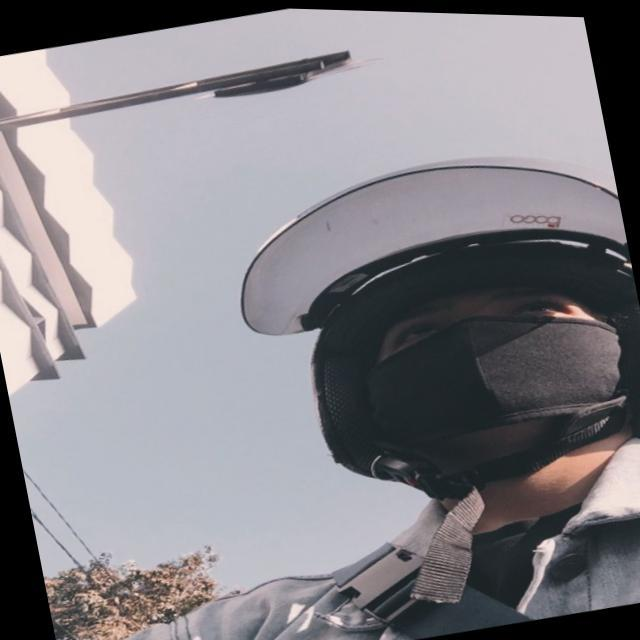Helmet: (237, 156, 639, 504)
